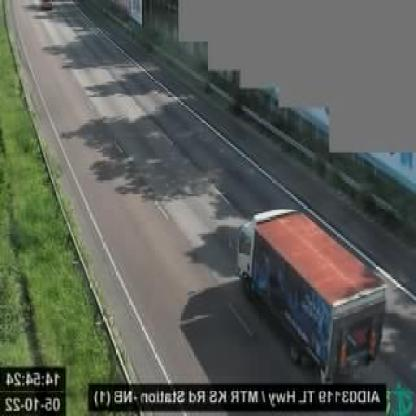Truck: (240, 208, 388, 380)
